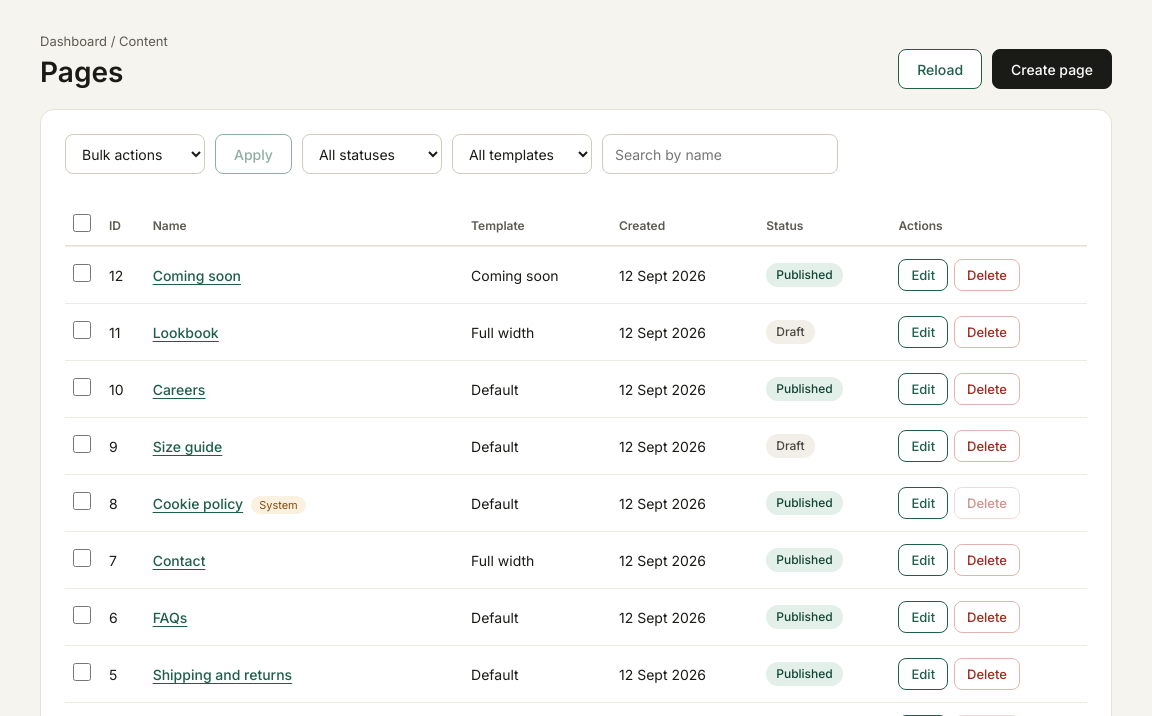
Test case: PagesModule › asks before leaving with unsaved changes
The width and height of the screenshot is (1152, 716).
Click the button "Create page".
click(1052, 69)  # box [992,49,1112,89]
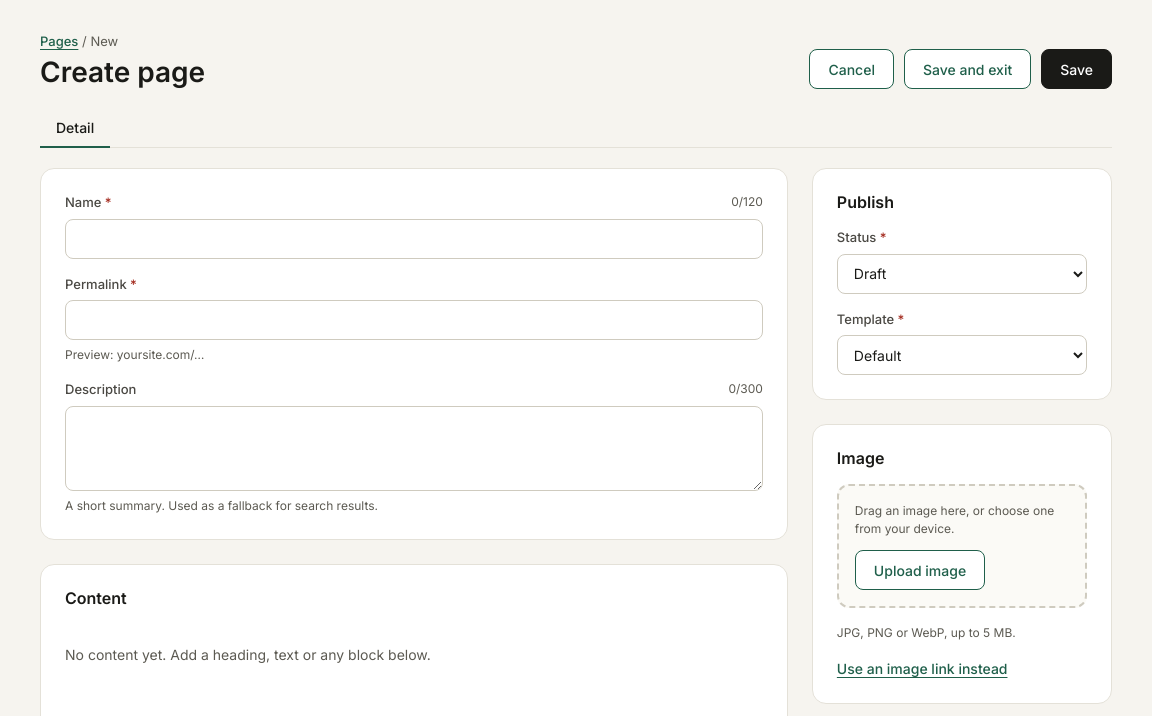
Type "Draft" into the field labelled "Name *".
click(414, 239); type("Draft")  # box [65,219,763,259]
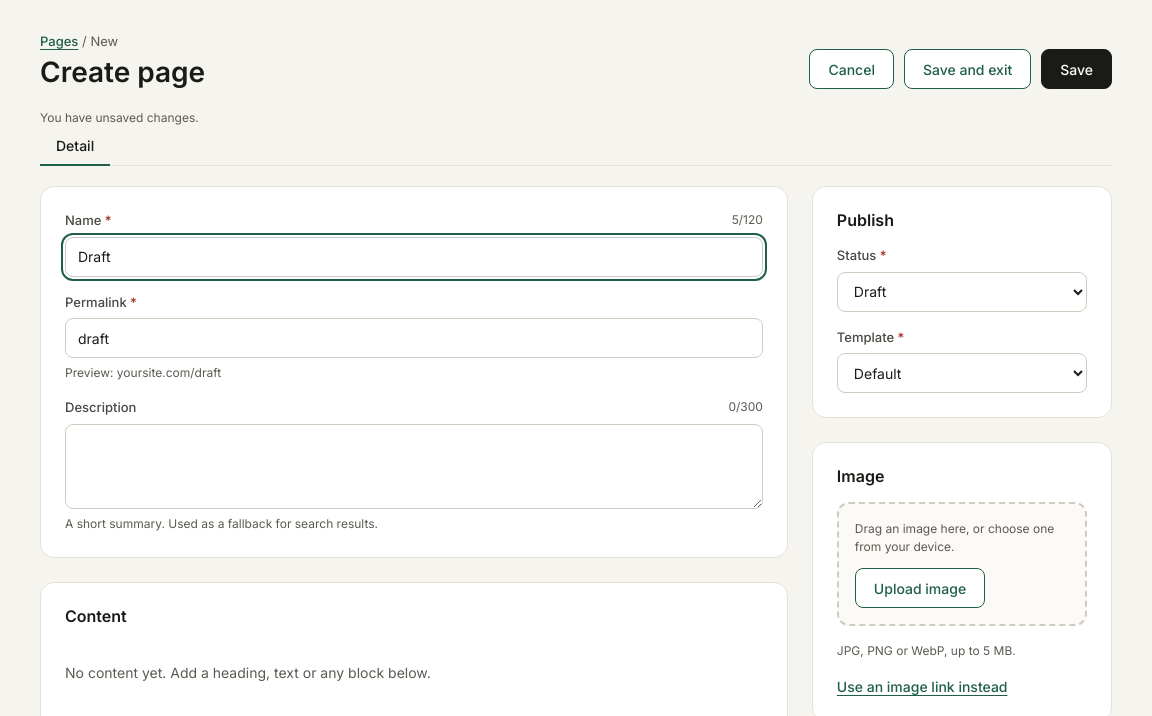
Click the button "Cancel".
click(852, 69)  # box [809,49,894,89]
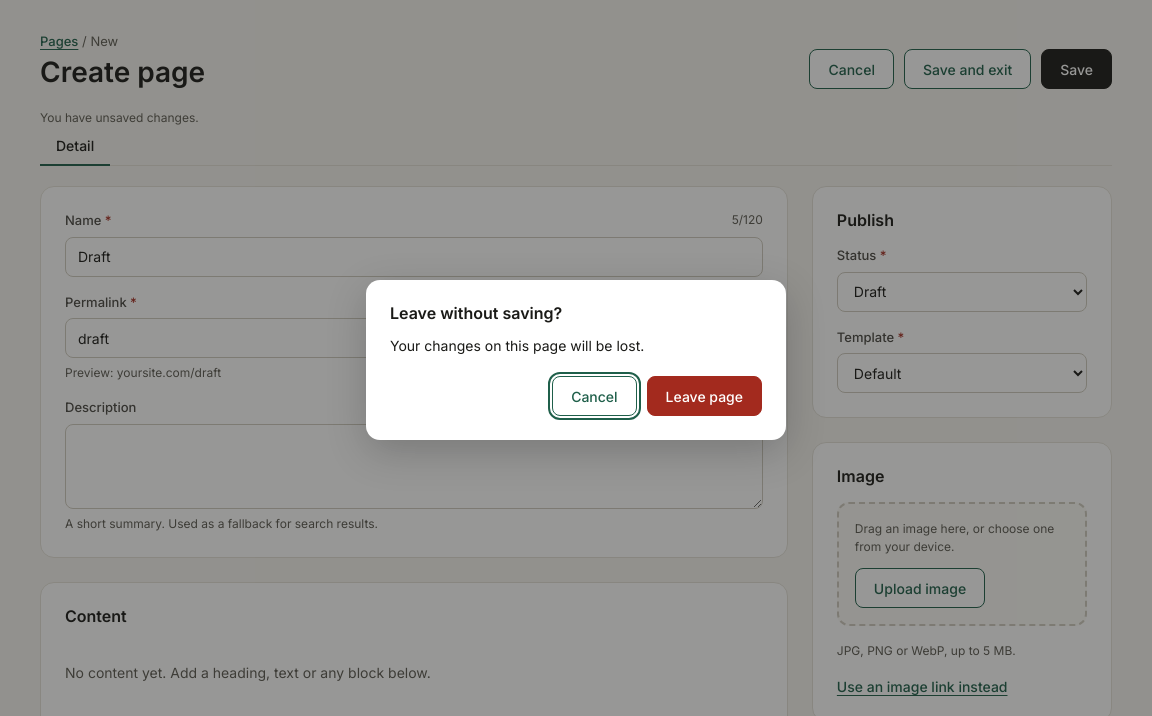
Click the button "Leave page".
click(704, 396)  # box [647,376,762,416]
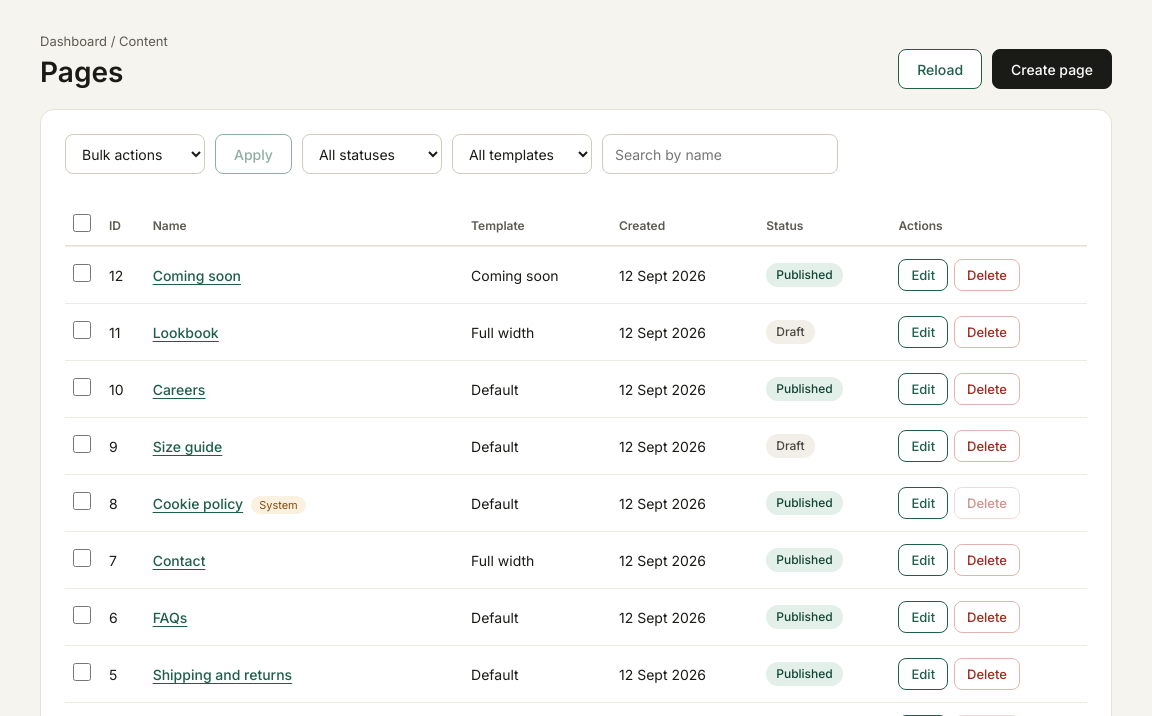
Expected: the heading "Pages" is shown, [40,54,123,88]
